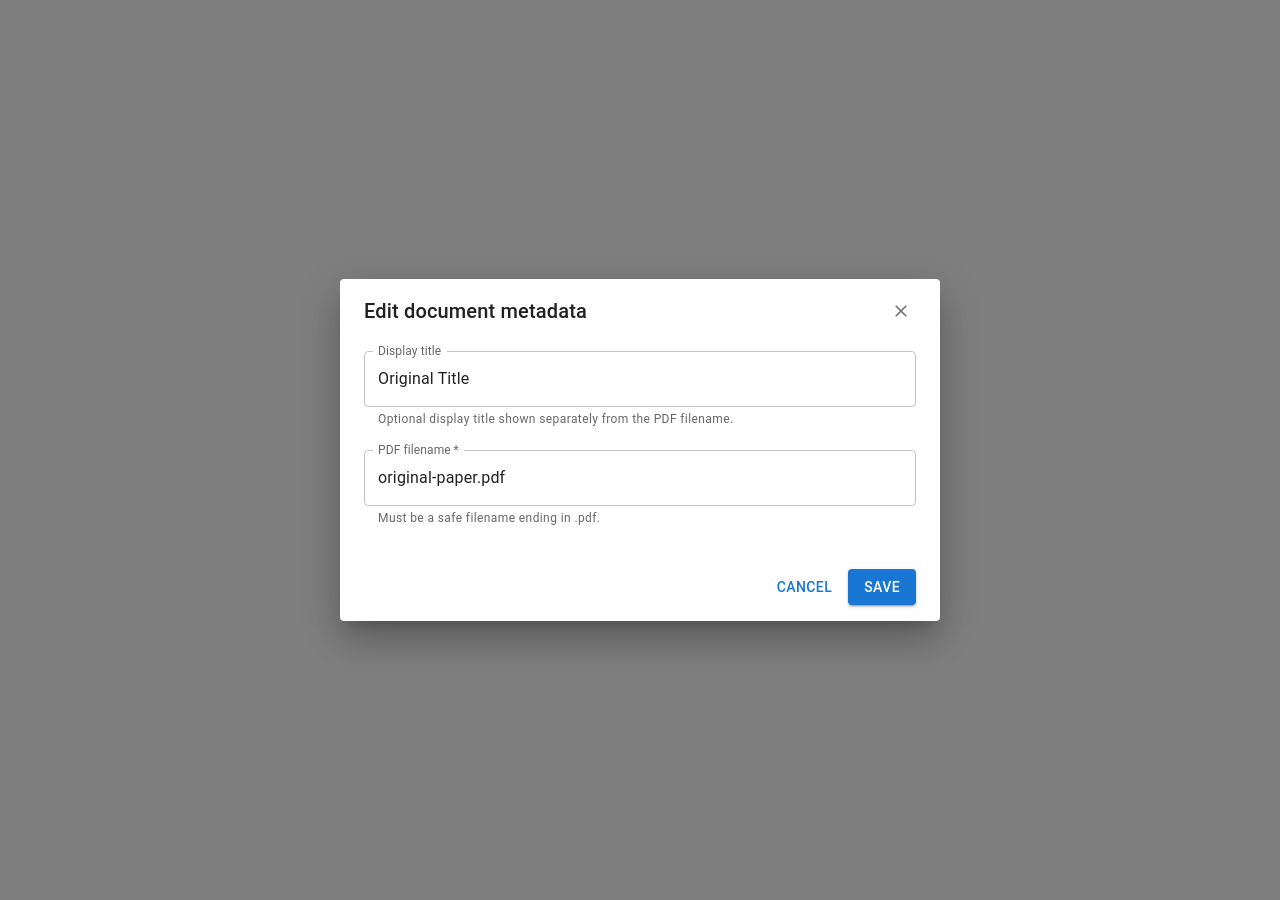
Test: EditDocumentDialog › disables save for a filename without a PDF extension
The image size is (1280, 900).
Step 1. Replace the text in the field labelled "PDF filename *" with "not-a-pdf.txt" → (640, 478), box [364,450,916,506]
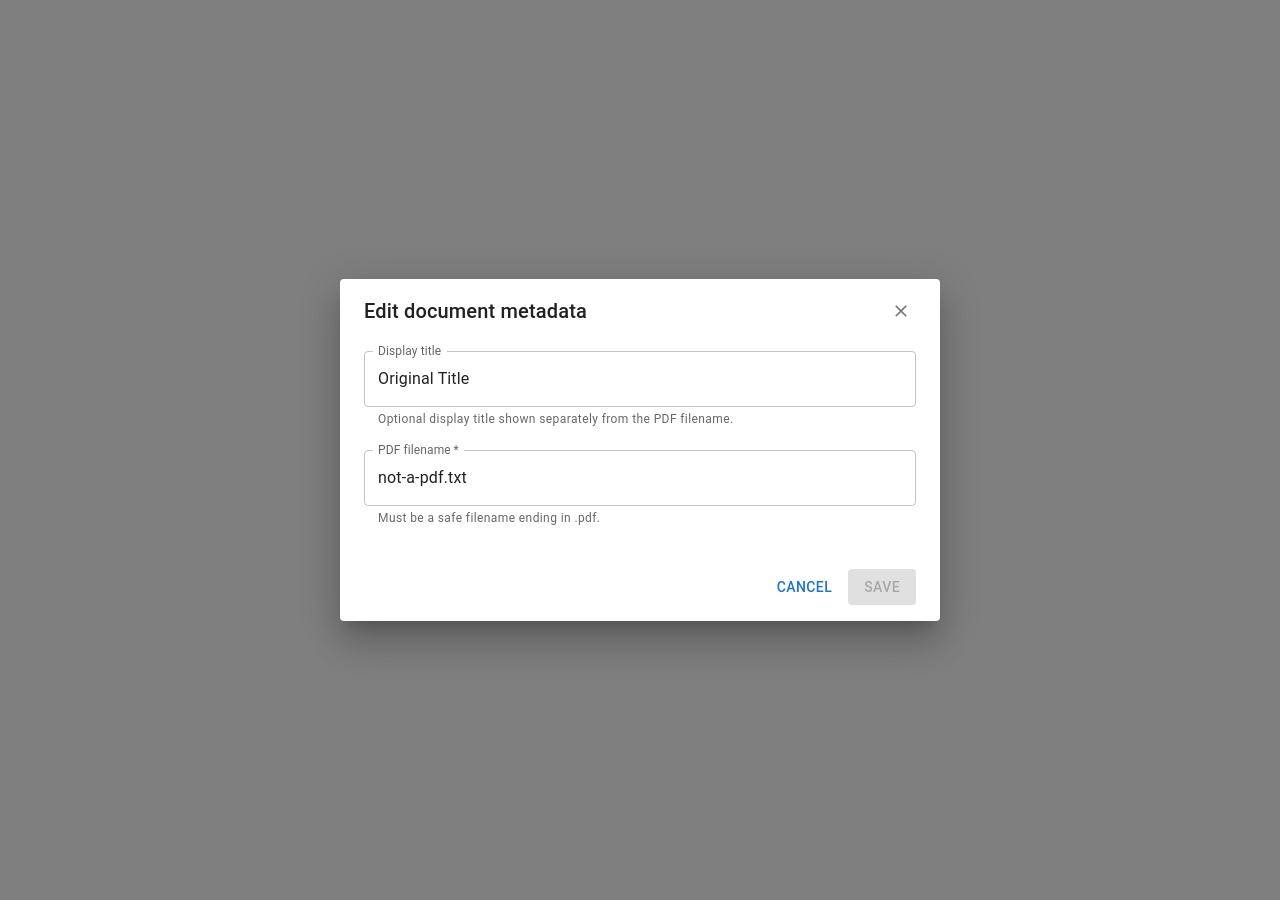
Now the button "Save" is disabled, box [848,569,916,605]
